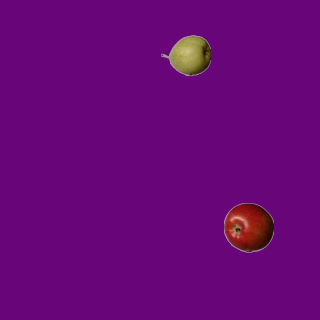Apple Braeburn: (223, 202, 273, 252)
Pear: (160, 30, 210, 80)
